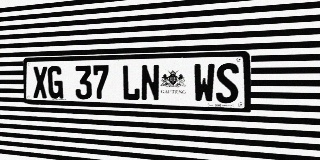3: (75, 65, 92, 100)
7: (92, 65, 109, 100)
G: (48, 66, 63, 99)
L: (122, 65, 140, 101)
N: (141, 64, 160, 101)
S: (216, 63, 239, 104)
W: (193, 63, 215, 103)
X: (33, 66, 48, 98)
